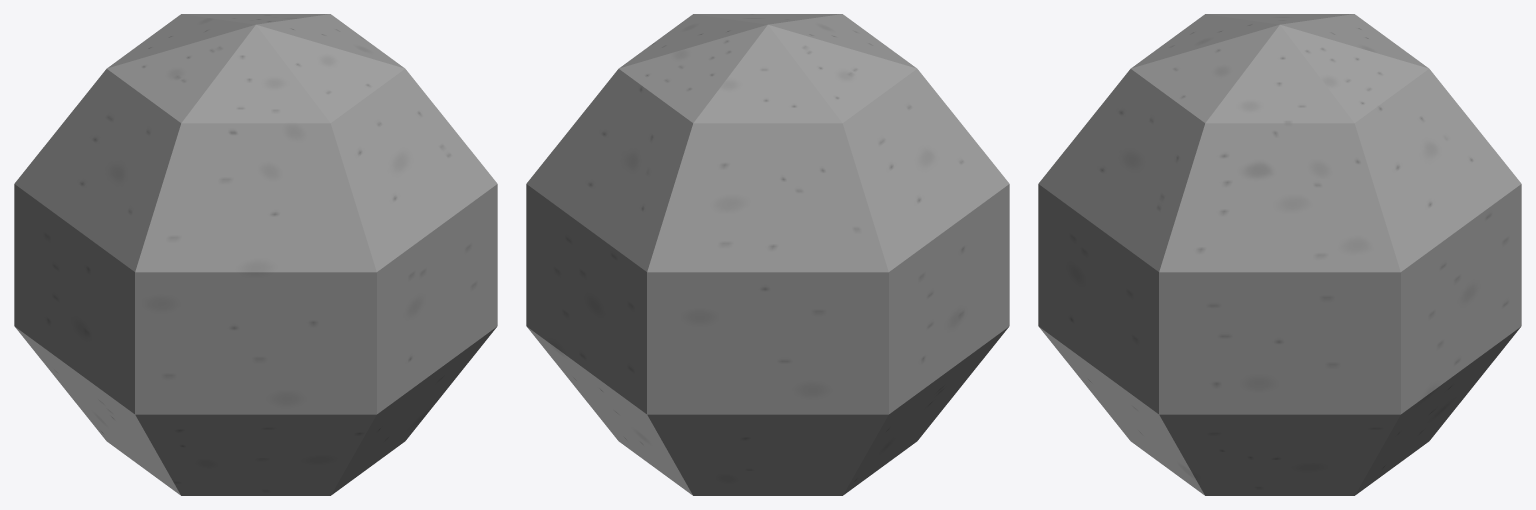
File: rock1.fbx
The picture shows the model from 3 angles, left to right: view 1: azimuth 30°, elevation 25°; view 2: azimuth 150°, elevation 25°; view 3: azimuth 270°, elevation 25°; orthographic projection.
Visible parts, largest first — view 1: Sphere; view 2: Sphere; view 3: Sphere.
Boxes of the visible parts, bbox=[...] form: Sphere: bbox=[14, 14, 497, 495]; Sphere: bbox=[526, 14, 1009, 495]; Sphere: bbox=[1038, 14, 1521, 495].
Bounding box in the file's own units: 16.47 × 20 × 19.02.
1 material, 1 textured.
